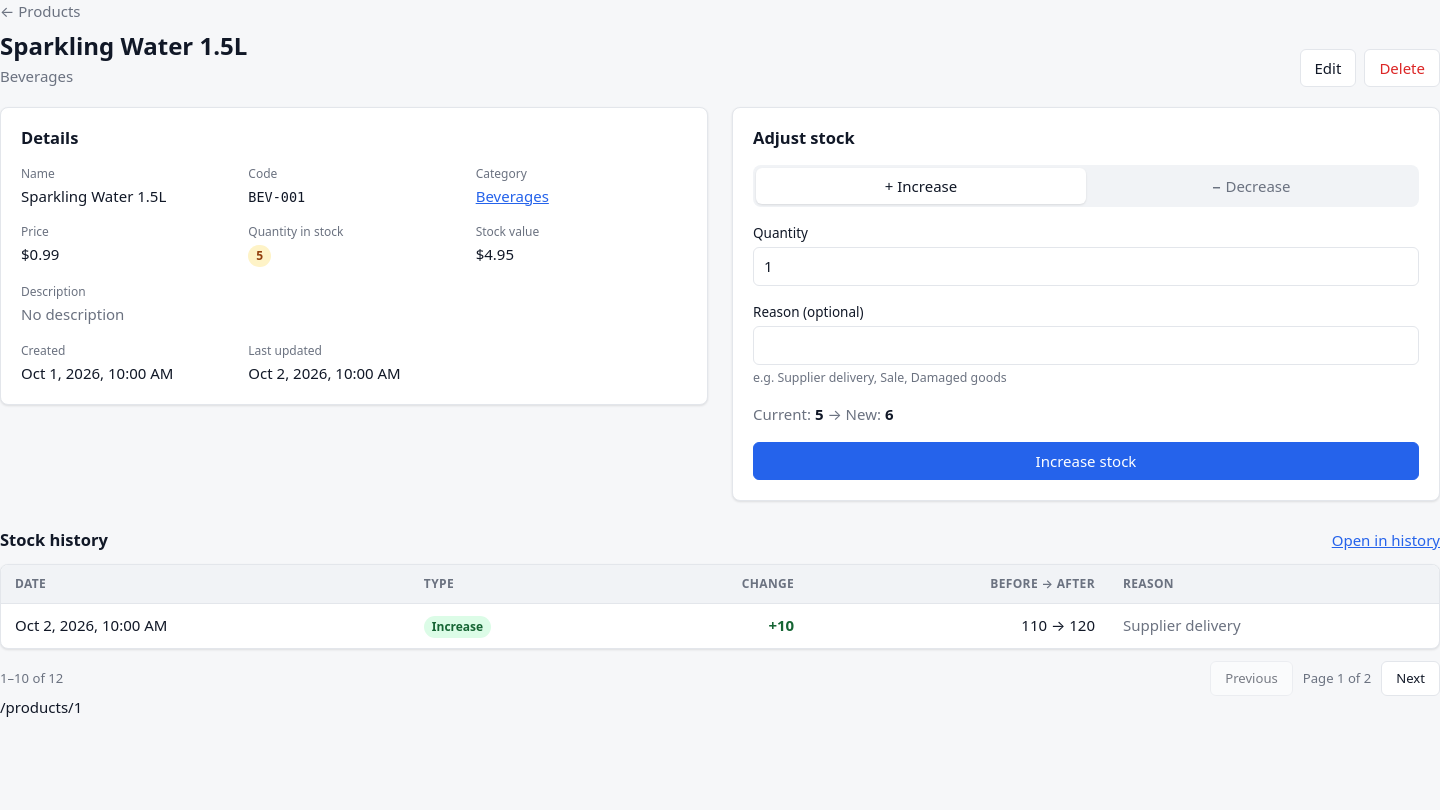
ProductDetailPage › keeps the page and shows a toast when deleting fails
This screenshot has width=1440, height=810.
Check: the heading "Sparkling Water 1.5L" is shown, box [0, 30, 247, 60]
Click the button "Delete" at (1402, 68), box [1364, 48, 1439, 87]
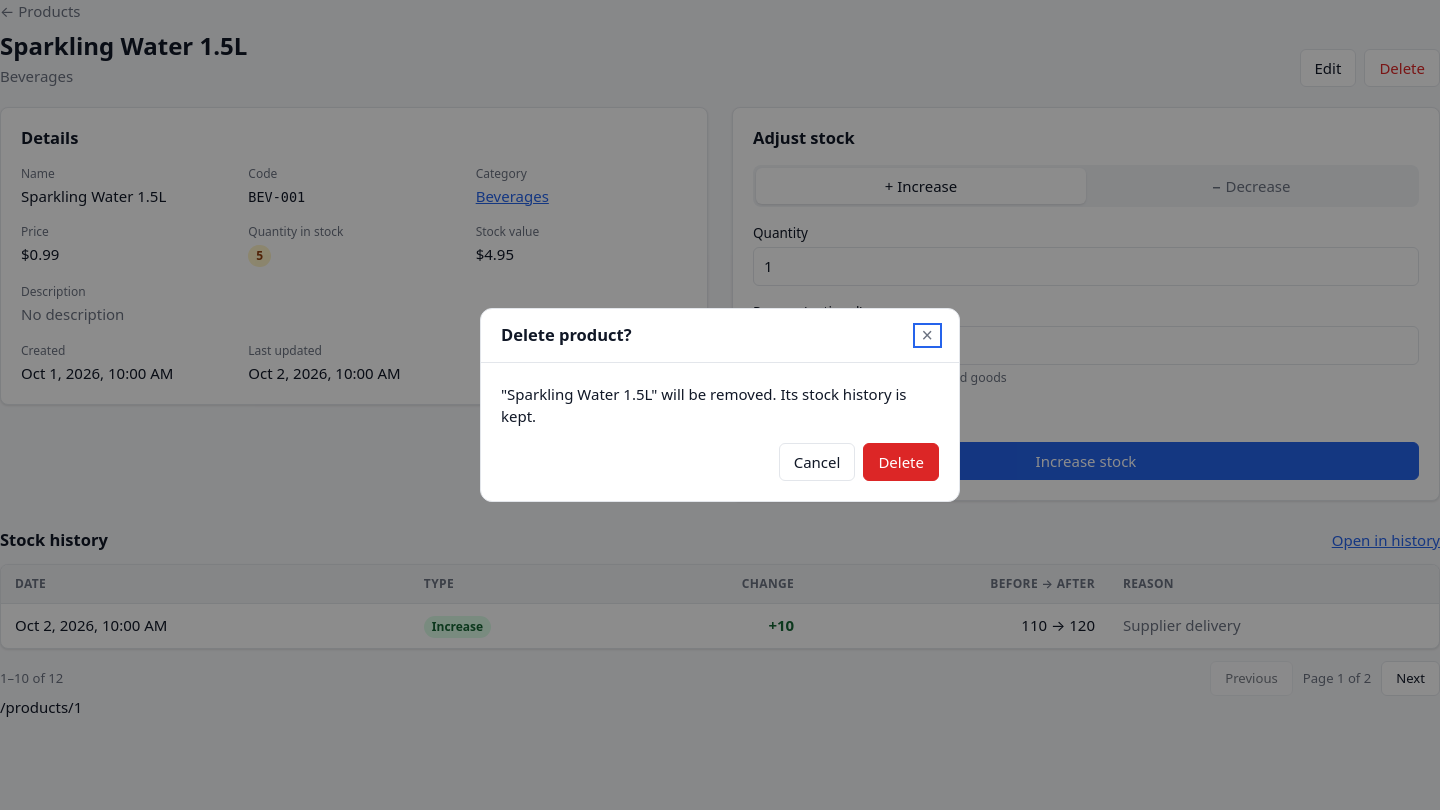
Click the button "Delete" at (901, 462), box [863, 443, 939, 481]
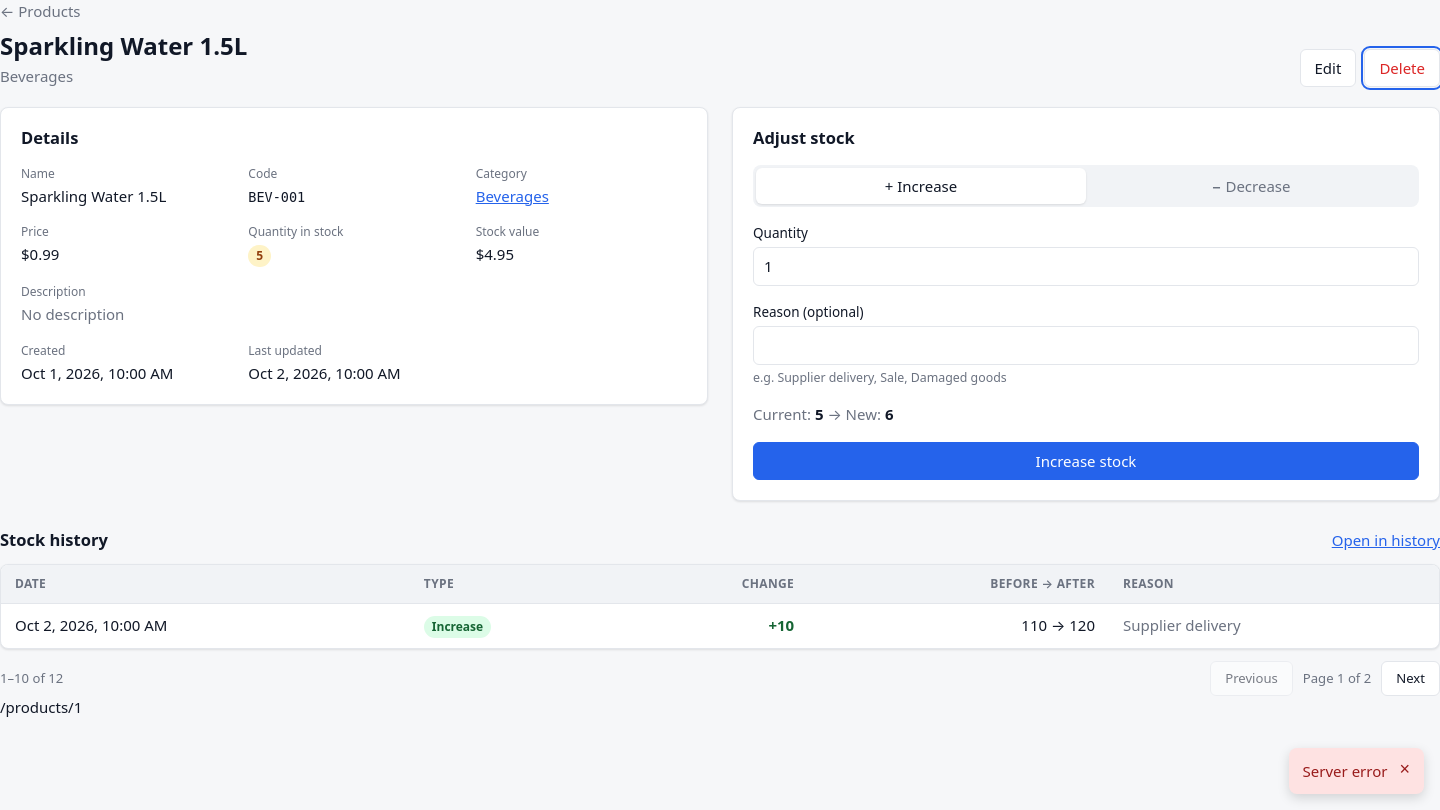
Check: the text "Server error" is shown, box [1303, 760, 1388, 782]
Check: the dialog is gone
